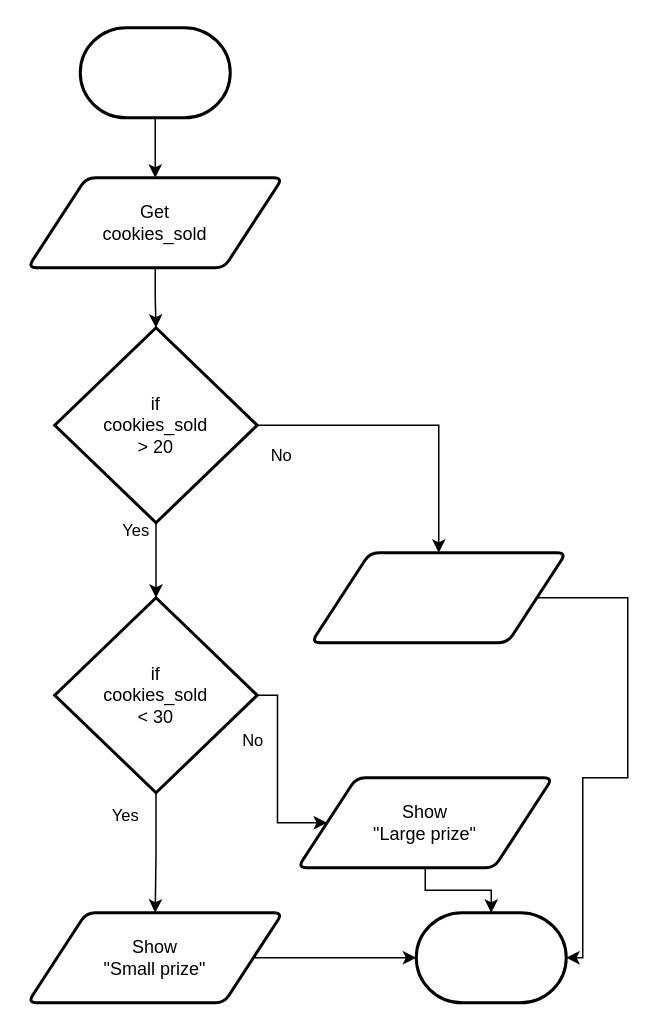
Some shapes in this 666 by 1029 pixel diagram are drawn without their labels. The shapes that lost their labels are listed below. From the top down, each one's centre as x and y in pixels, then its label:
the point at 154,72: Start
the point at 438,597: Show "No prize"
the point at 490,957: Stop
